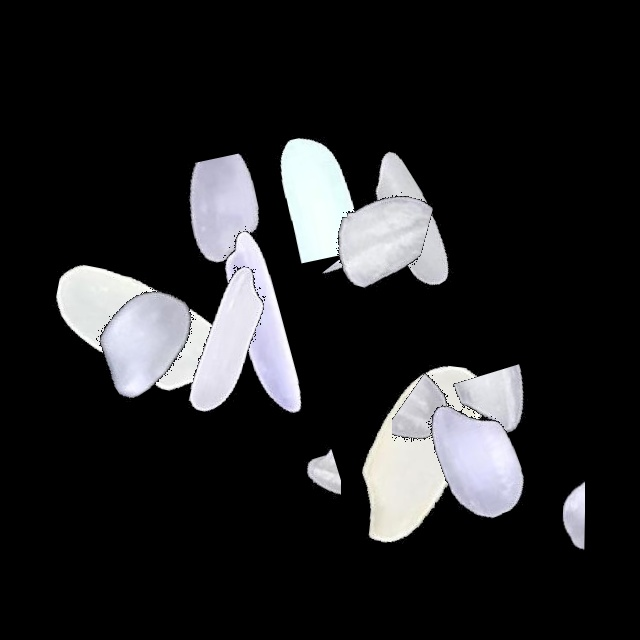Broken: (147, 116, 316, 366), (217, 150, 467, 313), (238, 58, 390, 308), (443, 306, 562, 556), (392, 311, 497, 561), (262, 236, 512, 341), (494, 385, 585, 635), (253, 365, 341, 615)
Full: (294, 328, 544, 578), (137, 200, 387, 450), (20, 207, 270, 457), (102, 216, 352, 466), (20, 214, 270, 464), (283, 95, 533, 345), (354, 334, 604, 584)
